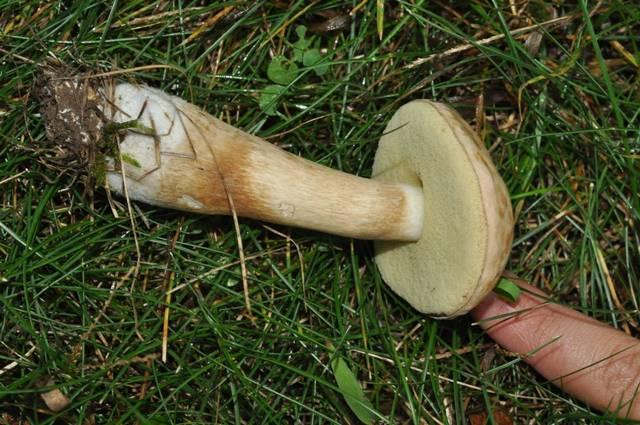edible_mushroom: (49, 76, 515, 320)
